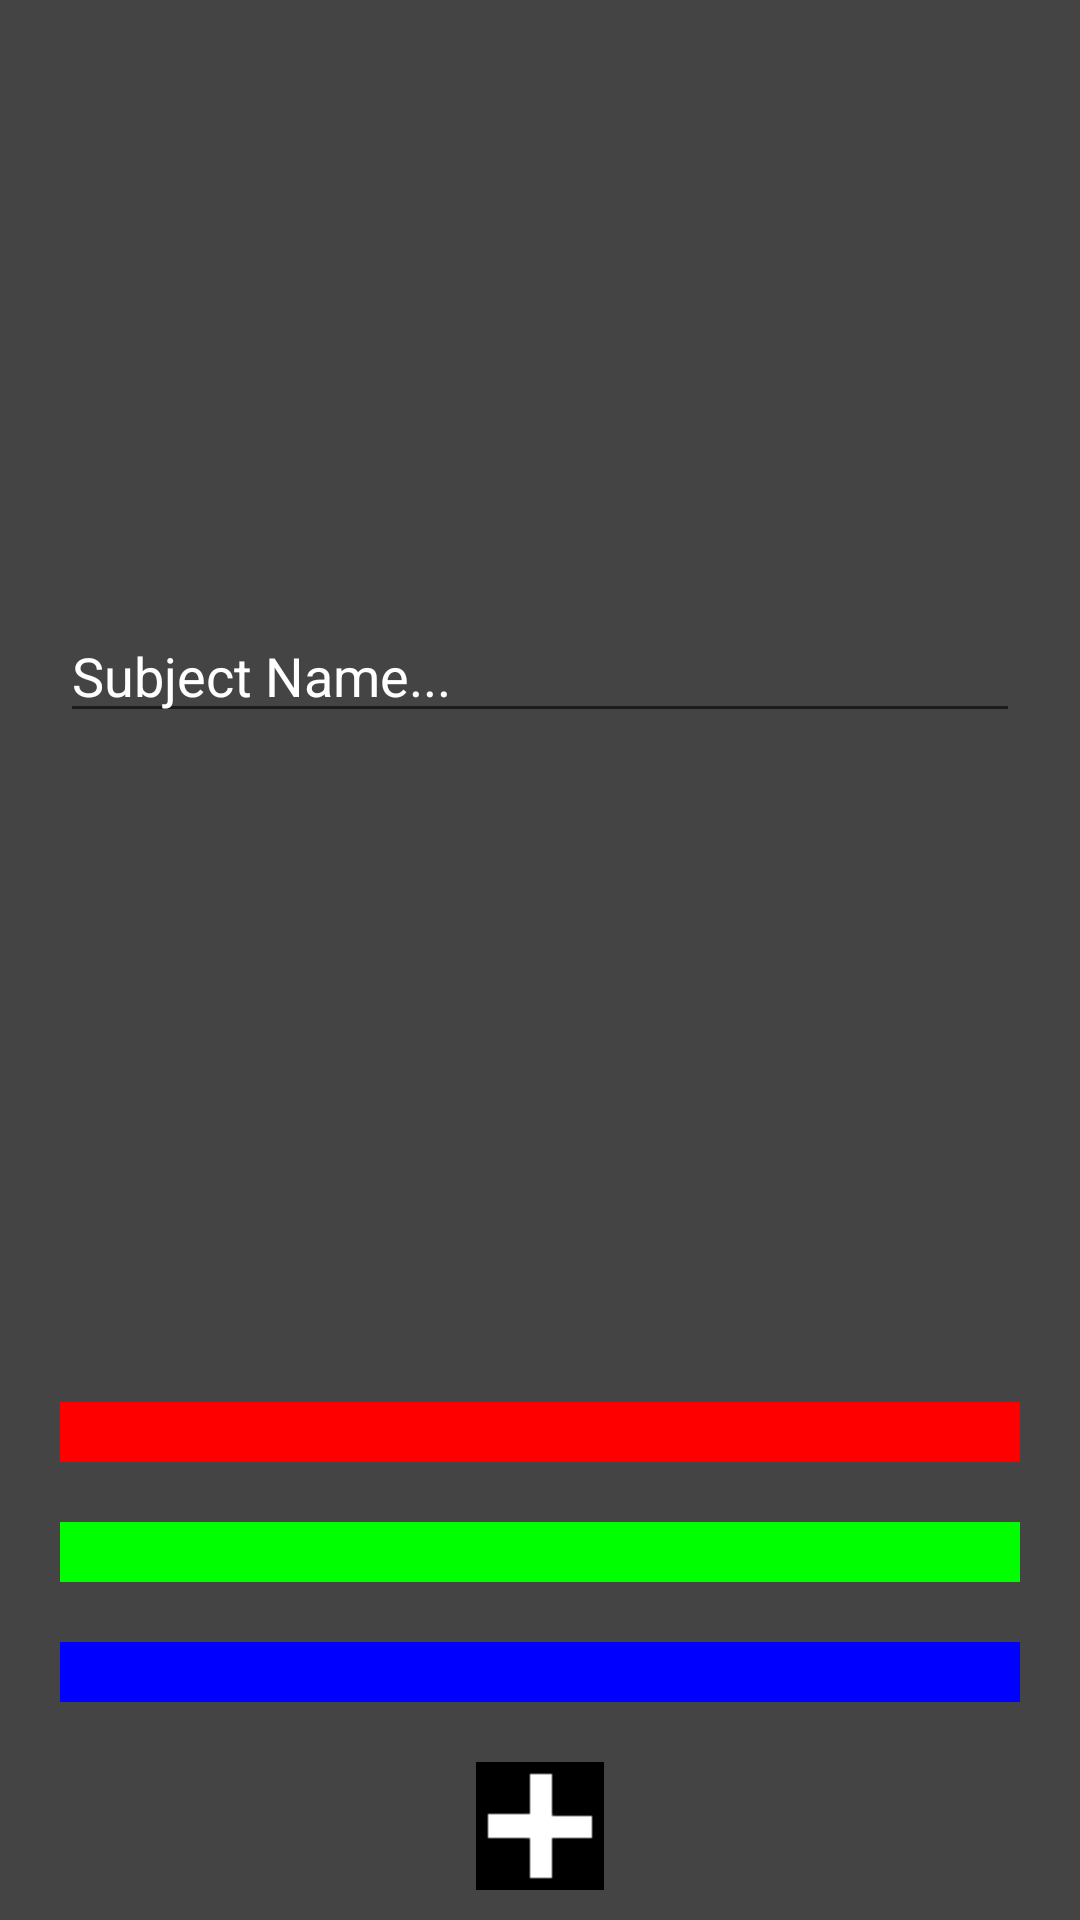

Where icons sit on this 1080x1920 app screen, as (x1, y1, x2, y2):
add: (476, 1762, 604, 1890)
